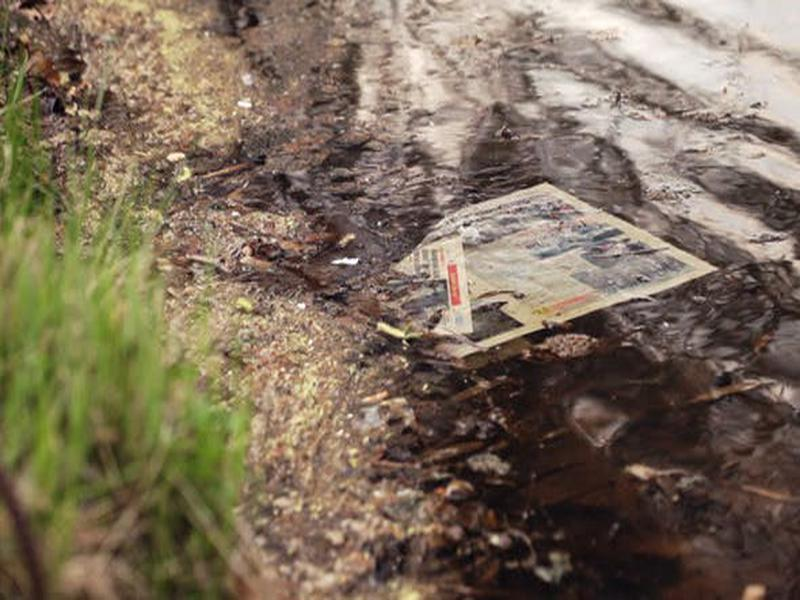paper: (376, 169, 722, 363)
